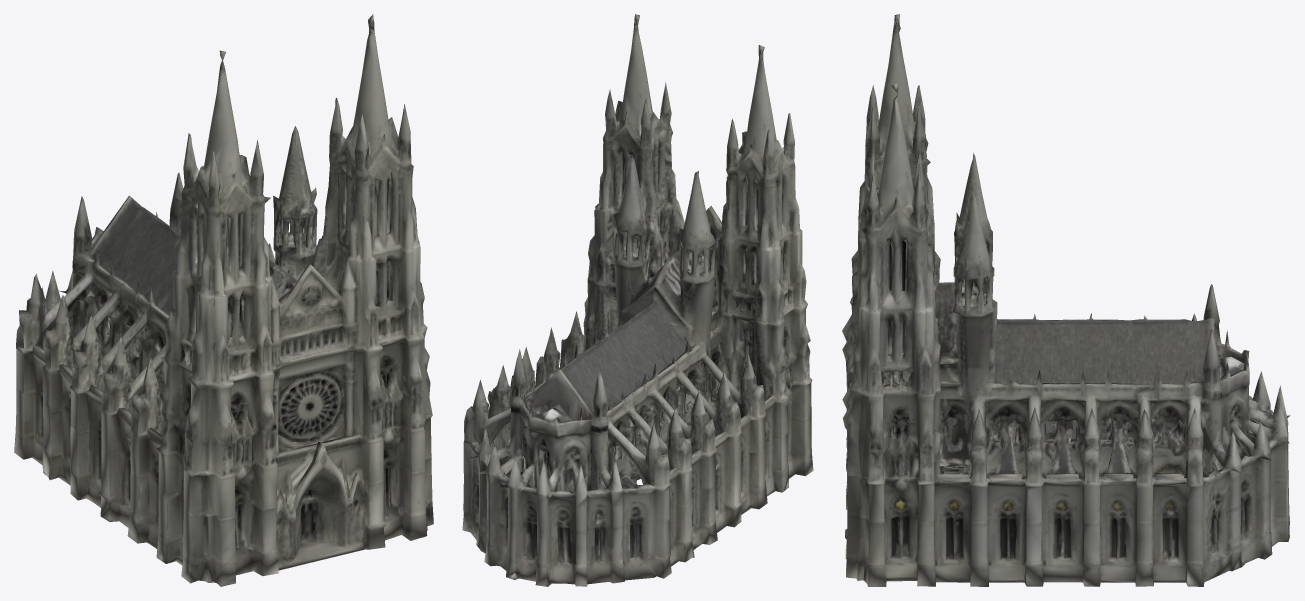
Rendered from Gothic_Cathedral.glb.
3 views of the same model, side by side, from view 1: azimuth 30°, elevation 25°; view 2: azimuth 150°, elevation 25°; view 3: azimuth 270°, elevation 25° (orthographic). The views are drawn at different scales.
Parts seen in each view (by area): view 1: Gothic_Cathedral; view 2: Gothic_Cathedral; view 3: Gothic_Cathedral.
Part boxes in pixels (x1,y1,x2,y2): Gothic_Cathedral: (14, 14, 433, 586); Gothic_Cathedral: (462, 14, 813, 586); Gothic_Cathedral: (842, 14, 1290, 586).
Size of the model in its own units: 0.9916 by 1.99 by 1.67.
1 material, 1 textured.
